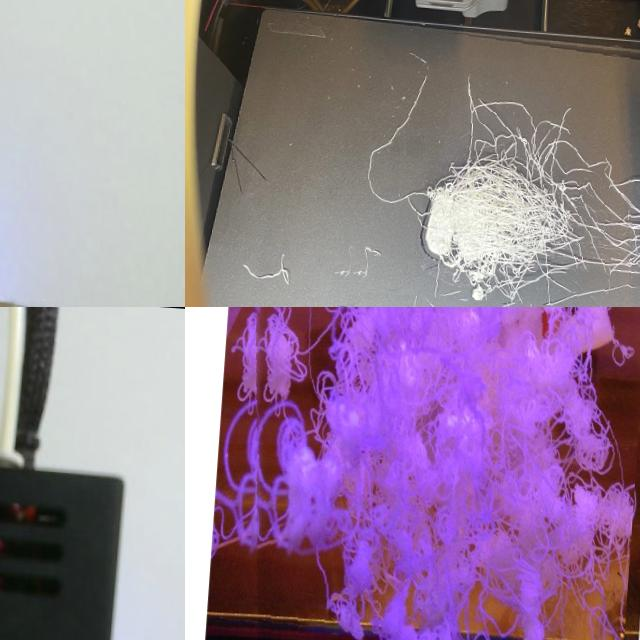spaghetti: (250, 307, 635, 640), (347, 22, 640, 304), (240, 251, 295, 292), (333, 240, 372, 292)
